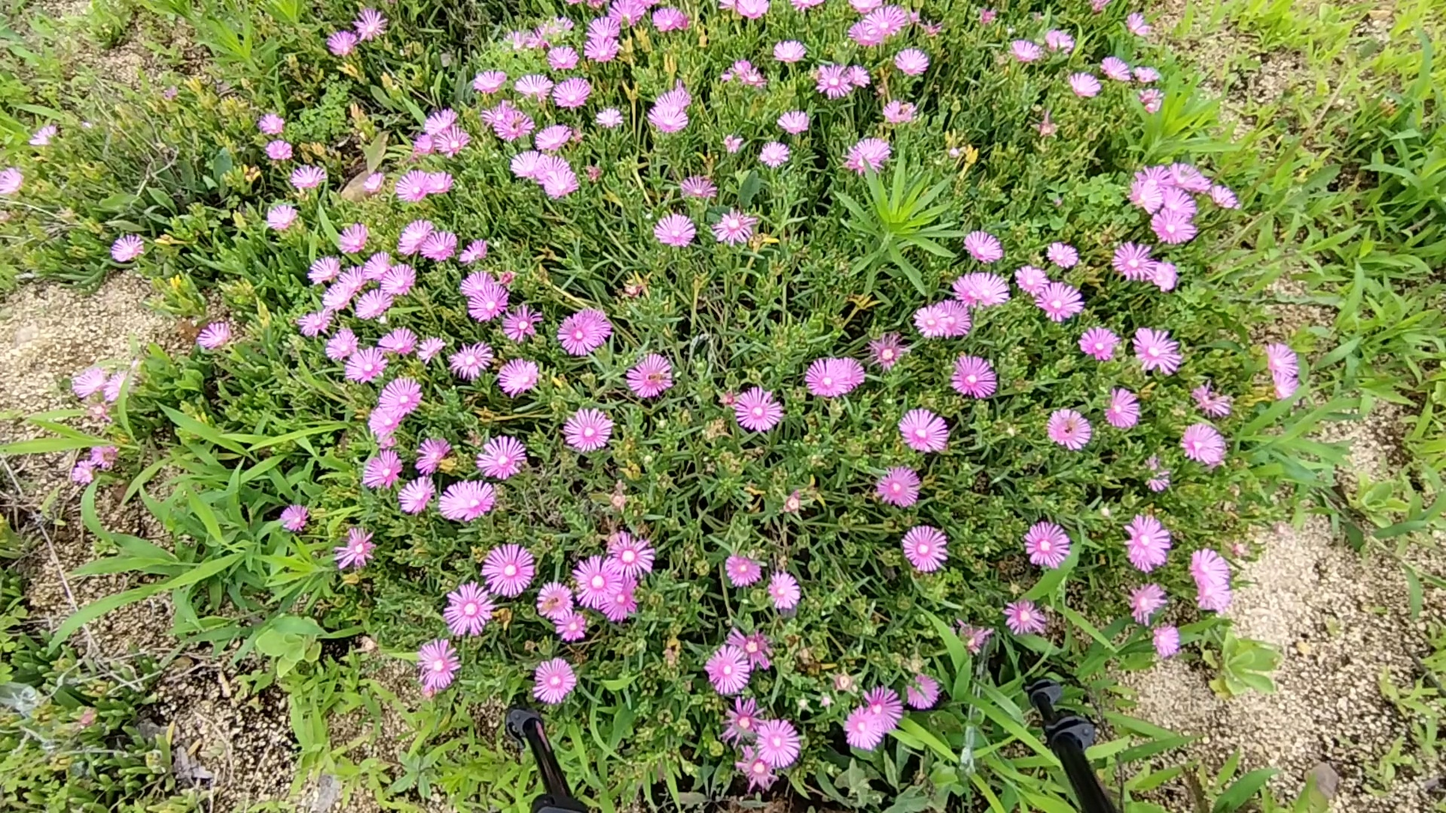bees: (1061, 417, 1078, 436), (541, 596, 560, 612), (645, 372, 669, 383), (509, 116, 525, 130), (897, 104, 913, 116)
